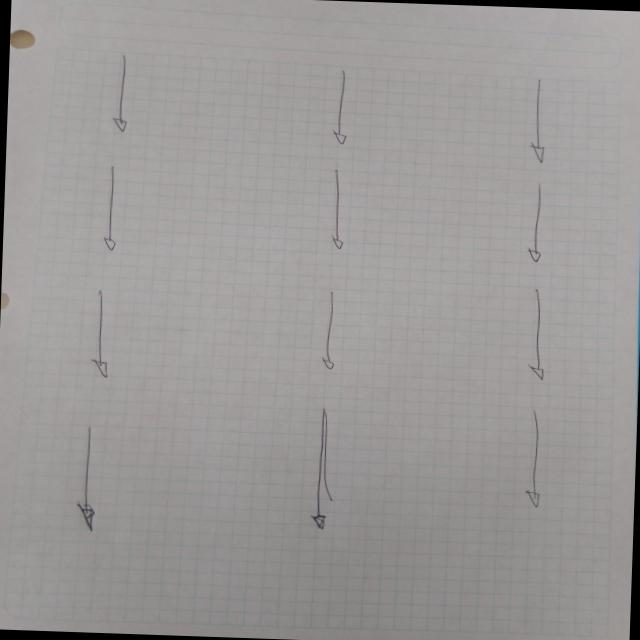arrow_line_down: (304, 409, 349, 530), (76, 422, 109, 534), (77, 289, 117, 378), (523, 290, 560, 386), (306, 293, 350, 372), (518, 411, 552, 509), (97, 160, 127, 250), (329, 63, 359, 150), (524, 76, 554, 162), (328, 165, 356, 251), (522, 184, 552, 264), (105, 55, 133, 136)
